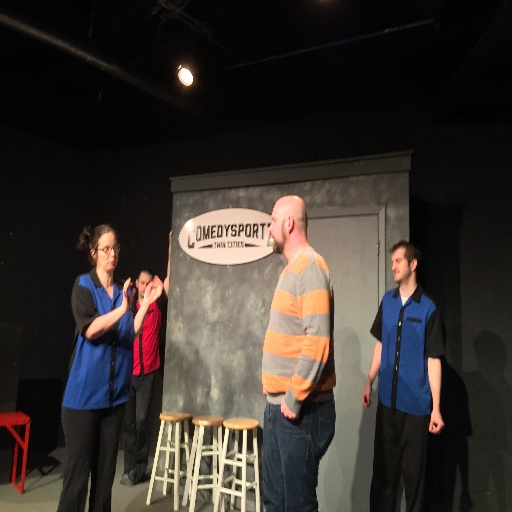hand: (142, 274, 164, 306), (120, 275, 137, 315), (427, 404, 445, 434), (278, 397, 297, 421), (360, 380, 372, 409), (168, 227, 173, 247)
